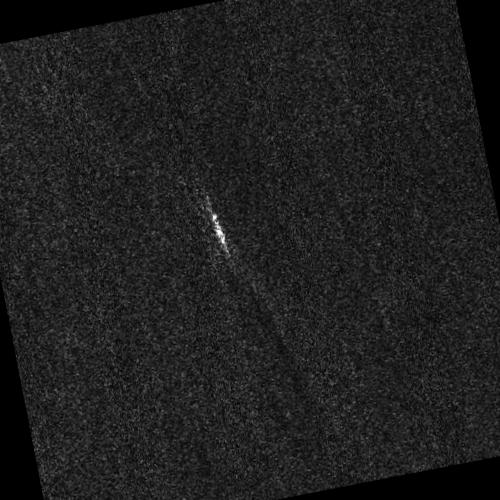ship: (212, 213, 226, 247)
